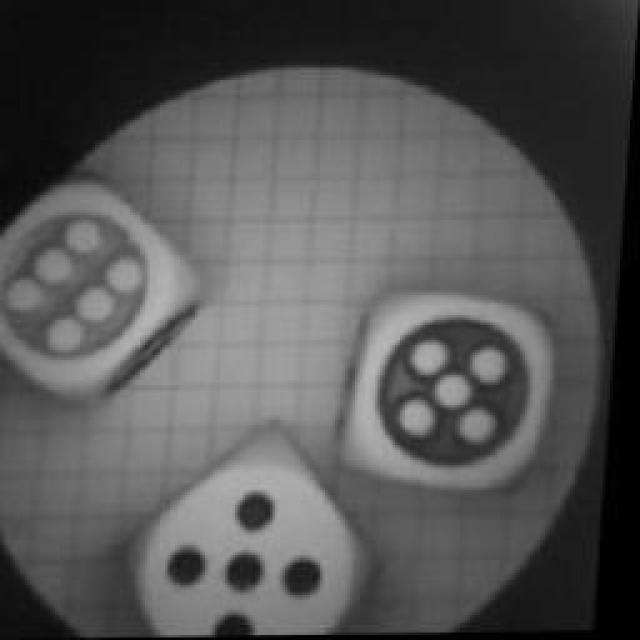dice_5: (116, 422, 406, 638), (341, 279, 584, 496)
dice_6: (0, 172, 220, 412)
